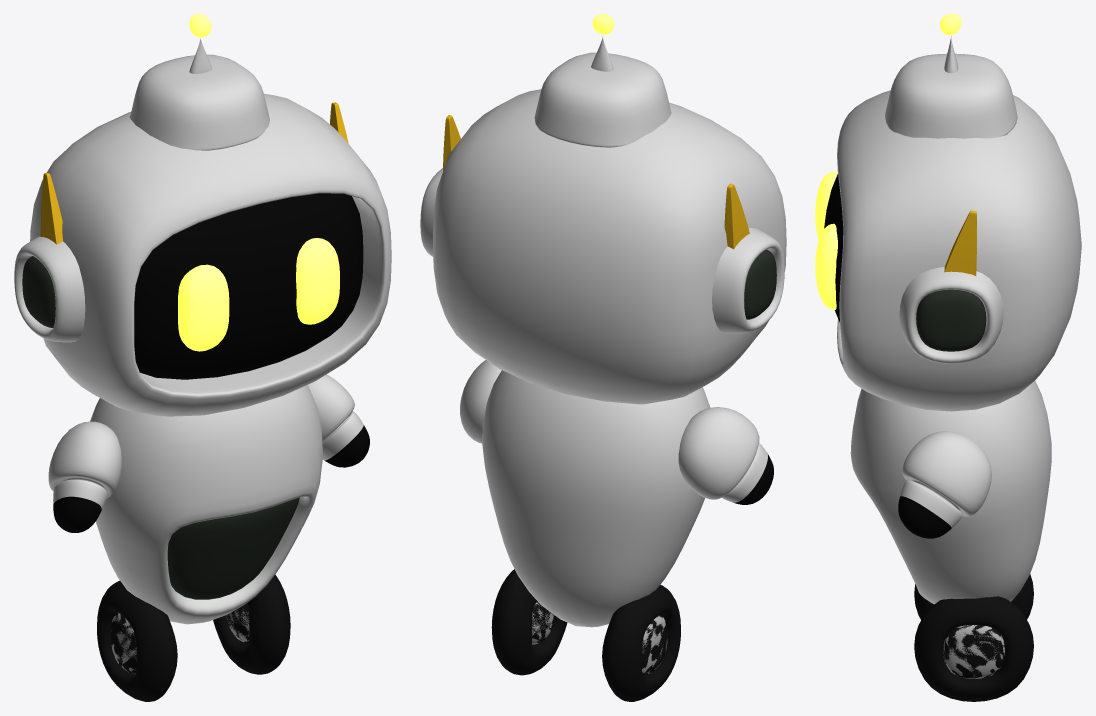
Rendered from Robot.fbx.
The picture shows the model from 3 angles, left to right: view 1: azimuth 30°, elevation 25°; view 2: azimuth 150°, elevation 25°; view 3: azimuth 270°, elevation 25°; orthographic projection. The views are drawn at different scales.
Parts seen in each view (by area): view 1: Head, Body, Wheels, Hat, Arms, Eyes, Ears, EarsPoint; view 2: Head, Body, Wheels, Hat, Arms, Ears, EarsPoint; view 3: Head, Body, Wheels, Hat, Ears, Arms, Eyes, EarsPoint.
Boxes of the visible parts, x1,y1,x2,y2 form: Head: (30,93,391,416); Body: (90,385,322,624); Wheels: (97,574,290,701); Hat: (129,54,269,150); Arms: (48,374,369,532); Eyes: (178,238,339,351); Ears: (14,236,85,342); EarsPoint: (40,102,348,244); Head: (433,89,786,404); Body: (482,370,710,627); Wheels: (491,569,680,701); Hat: (534,52,671,147); Arms: (460,360,773,504); Ears: (420,168,784,333); EarsPoint: (443,115,749,249); Head: (824,90,1081,411); Body: (850,380,1051,604); Wheels: (914,574,1033,701); Hat: (885,53,1017,138); Ears: (899,267,1003,363); Arms: (898,431,991,538); Eyes: (815,171,837,309); EarsPoint: (944,210,976,275).
Size of the model in its own units: 202 by 392 by 144.
